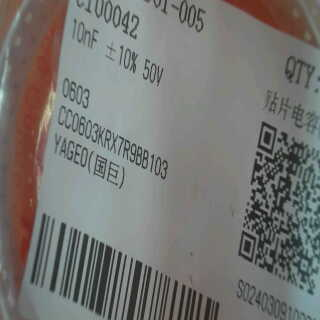10nF: (71, 13, 99, 58)
